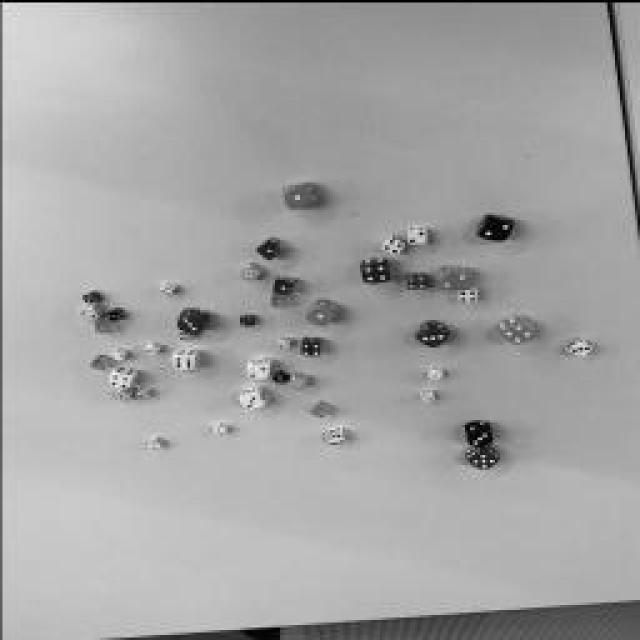dice_1: (282, 185, 310, 205), (305, 305, 333, 323), (259, 240, 281, 258), (272, 278, 292, 292), (429, 369, 441, 376)
dice_2: (479, 218, 511, 238), (440, 270, 468, 288), (246, 362, 266, 378), (407, 229, 425, 241), (78, 308, 98, 318), (145, 438, 160, 448), (111, 350, 124, 358), (240, 316, 250, 324), (278, 339, 288, 346)
dice_3: (418, 326, 448, 344), (468, 430, 492, 445), (178, 315, 202, 330), (240, 392, 260, 408), (569, 341, 591, 354), (112, 389, 128, 399), (288, 376, 304, 386), (312, 405, 328, 415), (92, 358, 106, 368), (96, 320, 109, 330), (105, 310, 120, 318), (273, 371, 285, 381), (142, 344, 158, 351), (420, 392, 432, 400), (214, 425, 224, 433)
dice_4: (361, 262, 389, 282), (502, 322, 532, 340), (381, 238, 404, 252), (109, 372, 129, 388), (300, 341, 320, 354), (405, 275, 425, 287), (457, 288, 475, 300), (240, 265, 258, 277)
dice_5: (469, 452, 496, 468), (82, 292, 98, 302), (270, 294, 285, 304)
dice_6: (172, 355, 192, 367), (325, 432, 345, 442), (159, 282, 171, 292), (176, 330, 189, 338), (135, 389, 147, 396)
